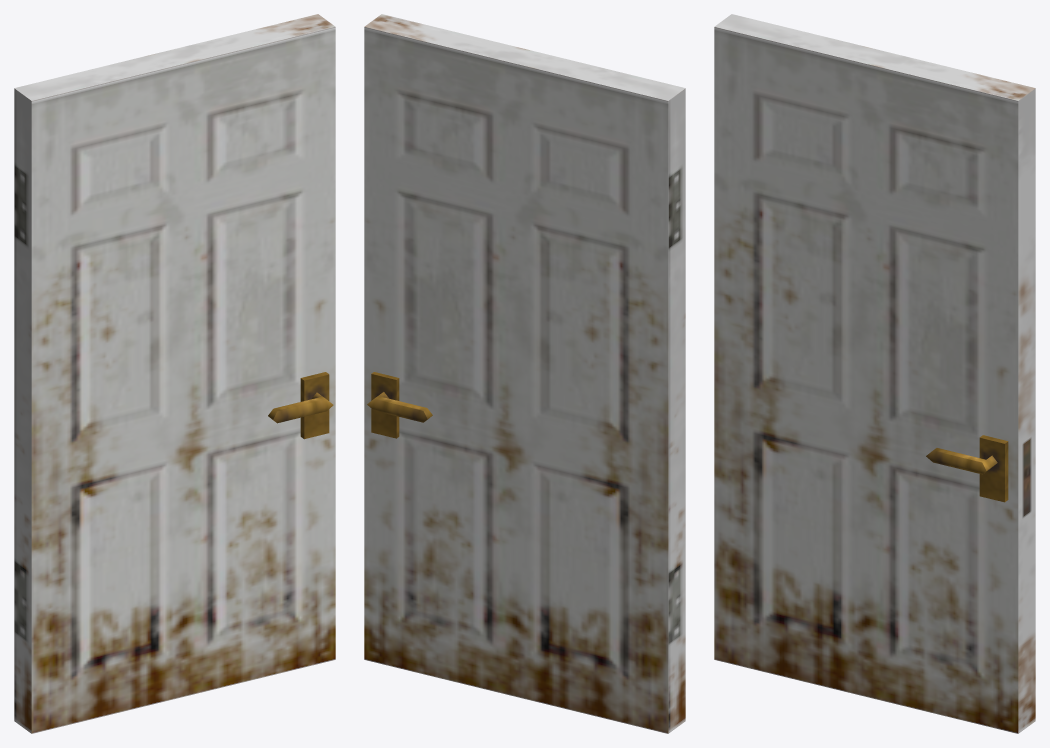
The model's file is door_003.obj.
3 renders of one model, left to right at view 1: azimuth 30°, elevation 25°; view 2: azimuth 150°, elevation 25°; view 3: azimuth 330°, elevation 25°, orthographic.
Visible parts, largest first — view 1: Door06, DoorHandle_Handle; view 2: Door06, DoorHandle_Handle.001; view 3: Door06, DoorHandle_Handle.
Boxes of the visible parts, x1=… form: Door06: x1=14, y1=14, x2=335, y2=733; DoorHandle_Handle: x1=268, y1=372, x2=333, y2=439; Door06: x1=364, y1=14, x2=685, y2=733; DoorHandle_Handle.001: x1=367, y1=372, x2=432, y2=438; Door06: x1=714, y1=14, x2=1035, y2=733; DoorHandle_Handle: x1=926, y1=435, x2=1008, y2=502.
Bounding box in the file's own units: 1 × 1.99 × 0.265.
Materials: 2 (2 with a texture image).
